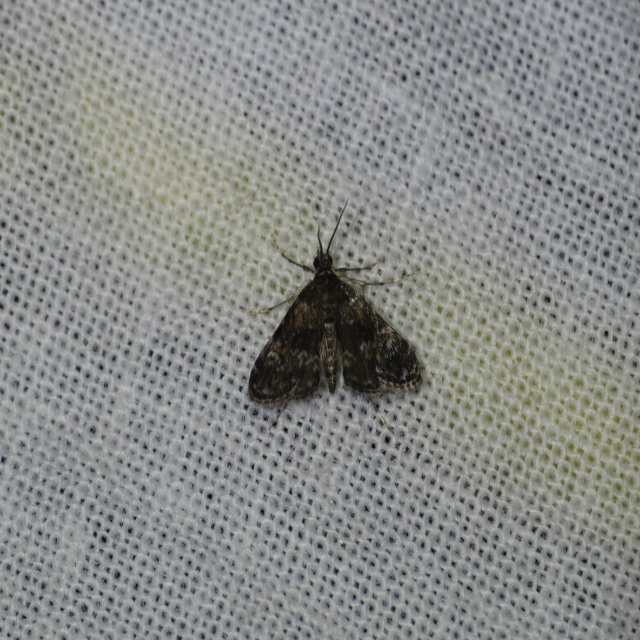Moths and butterflies: (248, 195, 424, 423)
